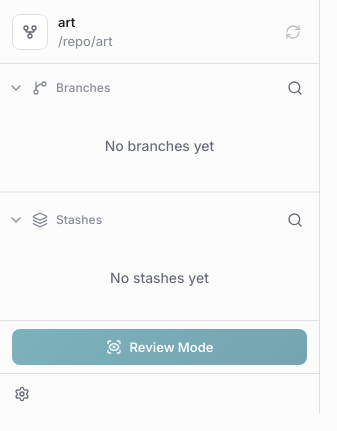
Scenario: RepositorySidebar › distinguishes empty lists from empty search results
The image size is (337, 431).
Expected: the text "No branches yet" is shown, 105,137 -> 214,154
Expected: the text "No stashes yet" is shown, 110,269 -> 209,286
Click the button named "Search branches" at (295, 88), box 279,72 -> 311,104
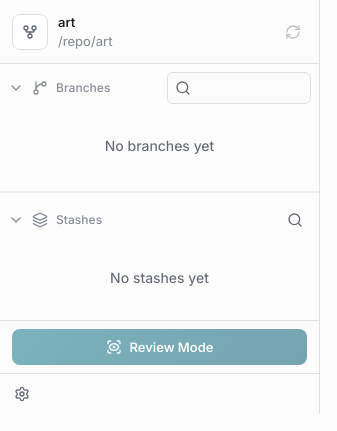
Type "missing" into the field named "Search branches" at (239, 88), box 167,72 -> 311,104
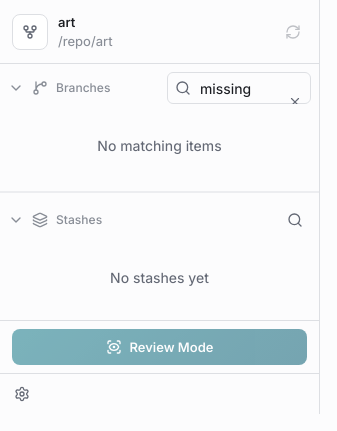
Expected: the text "No matching items" is shown, 97,137 -> 222,154
